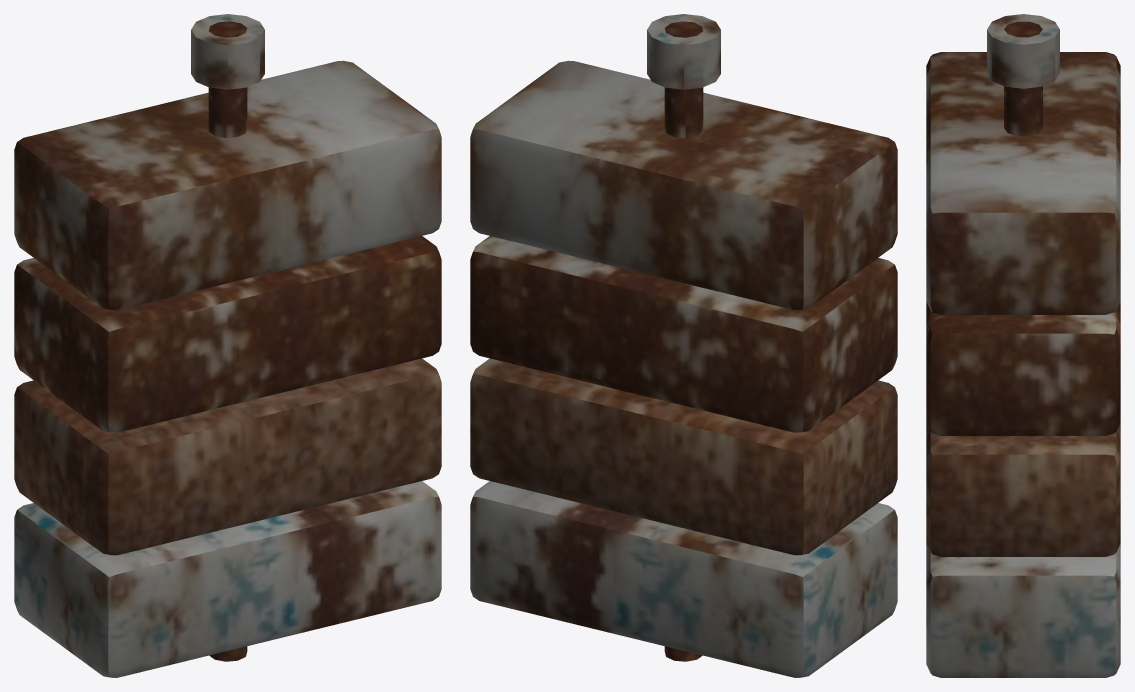
Rendered from lift_counter.glb.
3 renders of one model, left to right at view 1: azimuth 30°, elevation 25°; view 2: azimuth 150°, elevation 25°; view 3: azimuth 270°, elevation 25°, orthographic.
Visible parts, largest first — view 1: counterweight; view 2: counterweight; view 3: counterweight.
Part boxes in pixels (bbox=[...]): counterweight: bbox=[14, 14, 441, 677]; counterweight: bbox=[470, 14, 897, 677]; counterweight: bbox=[926, 14, 1120, 677].
Size of the model in its own units: 0.16 by 0.28 by 0.08.
Materials: 1 (1 with a texture image).
